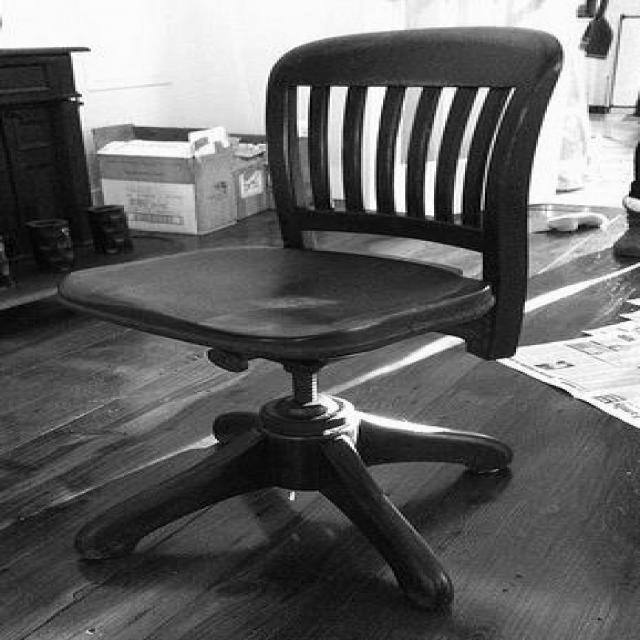chair: (54, 28, 563, 610)
